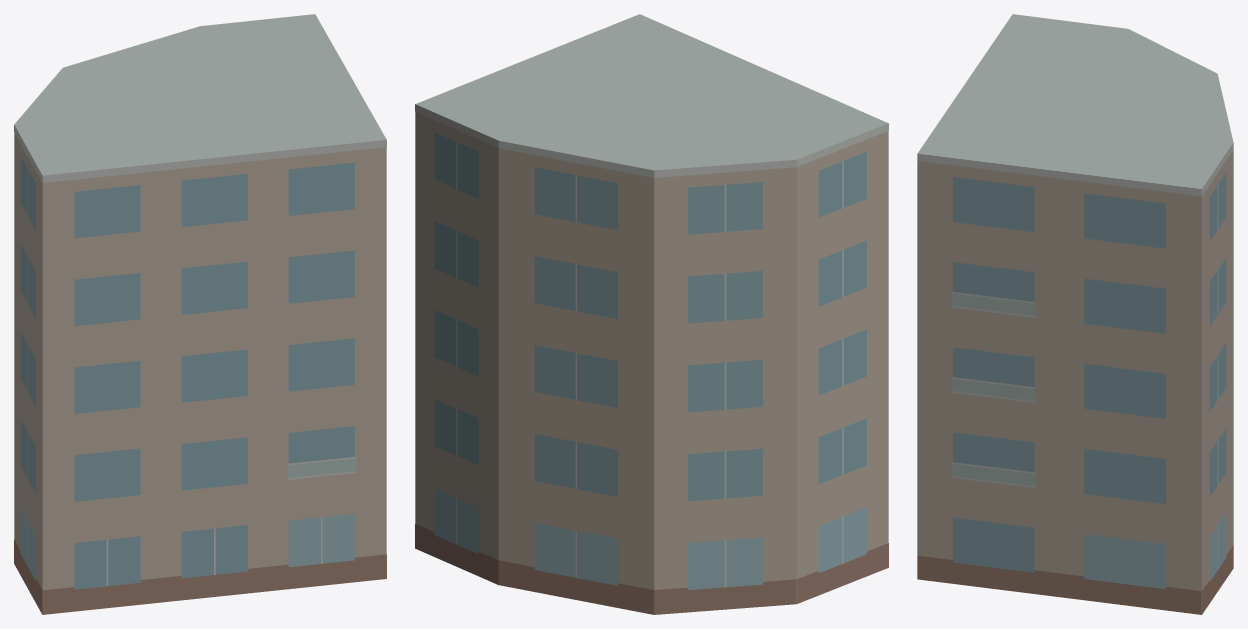
Rendered from survey-upis-32870387.glb.
3 renders of one model, left to right at view 1: azimuth 30°, elevation 25°; view 2: azimuth 150°, elevation 25°; view 3: azimuth 270°, elevation 25°, orthographic. The views are drawn at different scales.
Parts seen in each view (by area): view 1: survey-upis-32870387.tmp; view 2: survey-upis-32870387.tmp; view 3: survey-upis-32870387.tmp.
Part boxes in pixels (x1,y1,x2,y2): survey-upis-32870387.tmp: [14, 14, 386, 614]; survey-upis-32870387.tmp: [415, 14, 888, 614]; survey-upis-32870387.tmp: [917, 14, 1233, 614].
Bounding box in the file's own units: 12.81 × 14.5 × 9.77.
